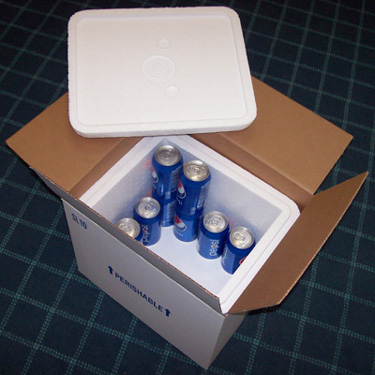Parcel: (81, 137, 302, 314)
